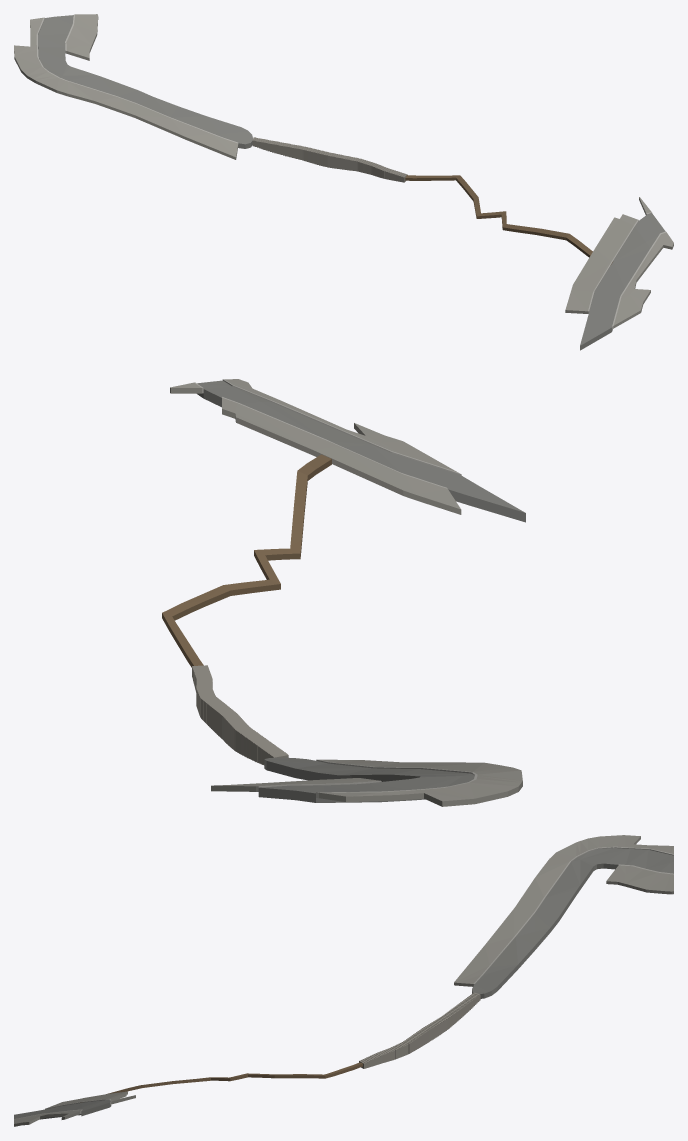
3 views of the same model, one above another, from view 1: azimuth 30°, elevation 25°; view 2: azimuth 150°, elevation 25°; view 3: azimuth 270°, elevation 25° (orthographic). The views are drawn at different scales.
Bounding box in the file's own units: 104 × 38.53 × 146.
